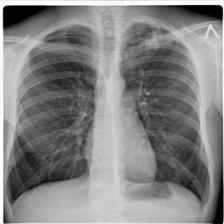tuberculosis: (3, 22, 211, 209)
